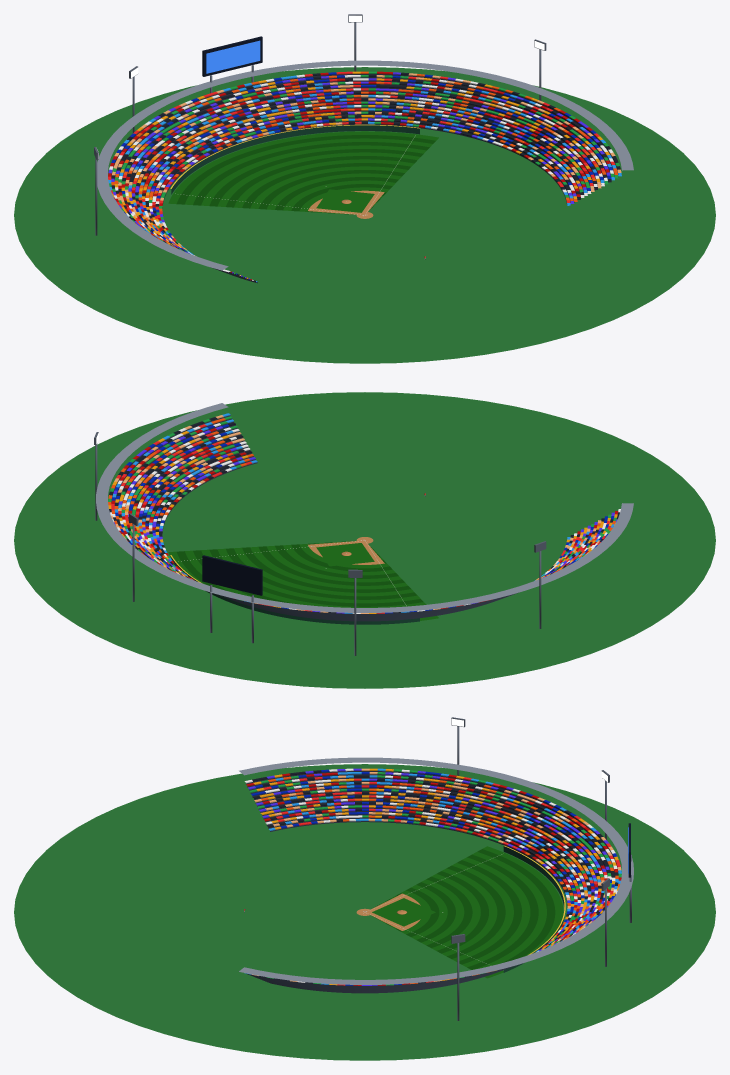
Rendered from baseball.glb.
The picture shows the model from 3 angles, top to bottom: view 1: azimuth 30°, elevation 25°; view 2: azimuth 150°, elevation 25°; view 3: azimuth 270°, elevation 25°; orthographic projection.
Visible parts, largest first — view 1: Ground, Stands, Outfield, Roof, Wall, ScoreFace, InfieldGrass, Scoreboard; view 2: Ground, Stands, Outfield, Roof, Scoreboard, InfieldGrass, Wall; view 3: Ground, Stands, Outfield, Roof, InfieldGrass.
Boxes of the visible parts, bbox=[...] form: Ground: bbox=[14, 67, 715, 363]; Stands: bbox=[108, 71, 621, 283]; Outfield: bbox=[168, 131, 438, 214]; Roof: bbox=[97, 60, 633, 270]; Wall: bbox=[171, 125, 419, 194]; ScoreFace: bbox=[206, 40, 260, 73]; InfieldGrass: bbox=[316, 189, 374, 212]; Scoreboard: bbox=[202, 36, 262, 76]; Ground: bbox=[14, 392, 715, 688]; Stands: bbox=[108, 413, 620, 621]; Outfield: bbox=[168, 541, 438, 620]; Roof: bbox=[96, 403, 633, 612]; Scoreboard: bbox=[202, 555, 262, 595]; InfieldGrass: bbox=[316, 543, 374, 566]; Wall: bbox=[171, 557, 419, 624]; Ground: bbox=[14, 764, 715, 1060]; Stands: bbox=[244, 768, 621, 993]; Outfield: bbox=[370, 846, 563, 978]; Roof: bbox=[239, 757, 633, 984]; InfieldGrass: bbox=[372, 898, 435, 926].
Size of the model in its own units: 350 by 47.03 by 350.
